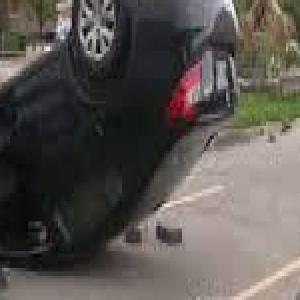serious: (0, 0, 246, 275)
